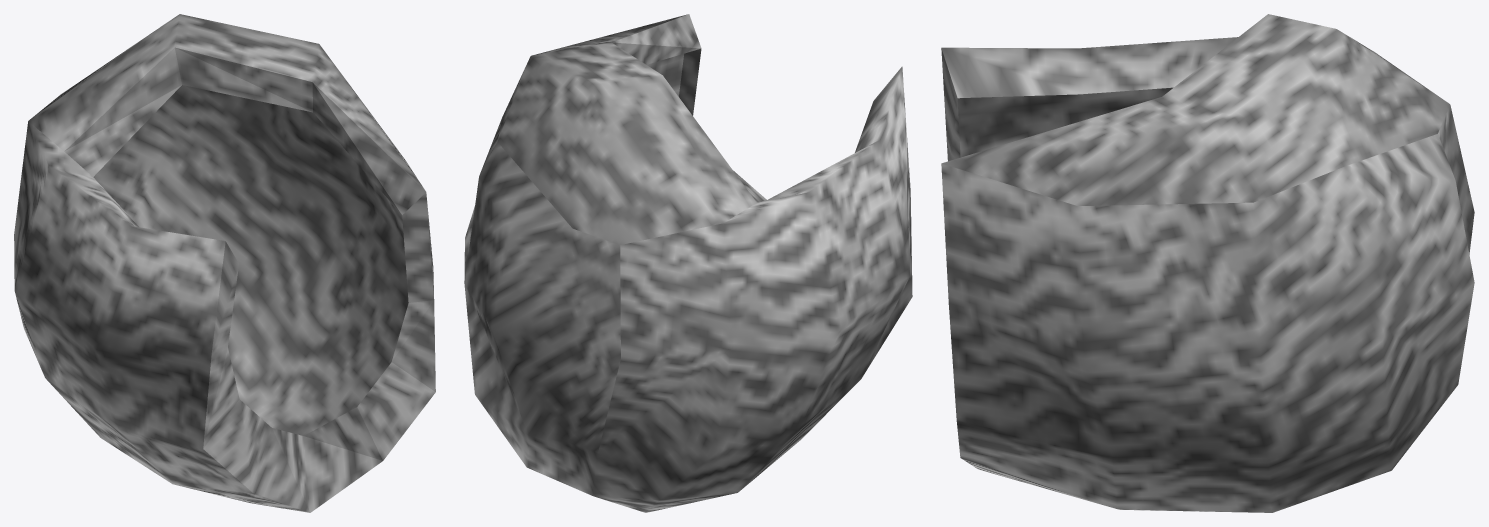
The model's file is Wig_Kate_Hair_OverEyeCurly.fbx.
3 renders of one model, left to right at view 1: azimuth 30°, elevation 25°; view 2: azimuth 150°, elevation 25°; view 3: azimuth 270°, elevation 25°, orthographic. The views are drawn at different scales.
Parts seen in each view (by area): view 1: BoxOfJars003; view 2: BoxOfJars003; view 3: BoxOfJars003.
Part boxes in pixels (box(x1,y1,x2,y2)): BoxOfJars003: box(14, 14, 435, 512); BoxOfJars003: box(464, 14, 912, 512); BoxOfJars003: box(941, 14, 1474, 512).
Bounding box in the file's own units: 13.17 × 14.9 × 14.61.
